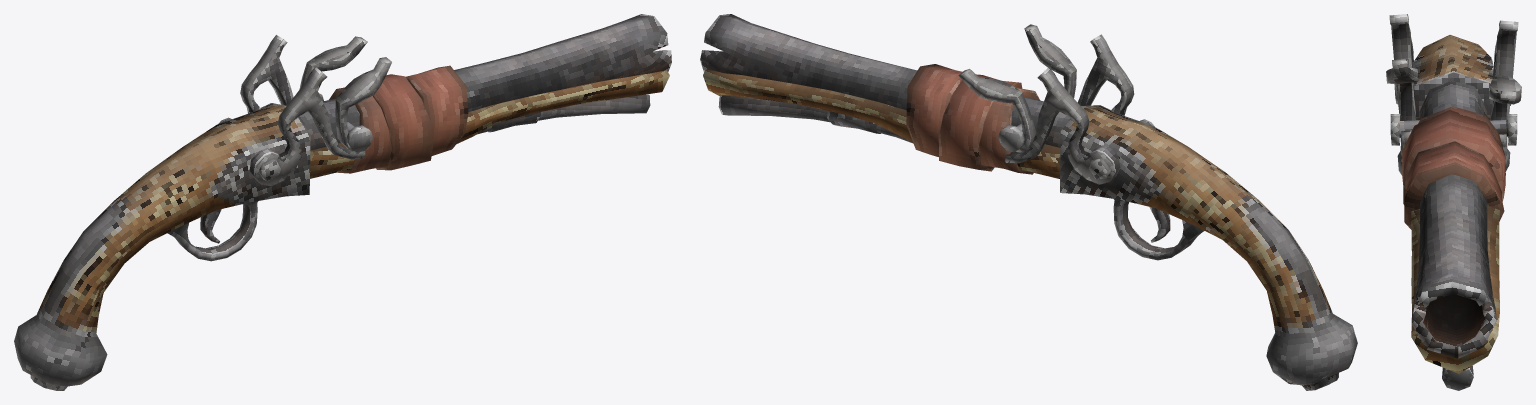
File: gun.glb
3 views of the same model, side by side, from view 1: azimuth 30°, elevation 25°; view 2: azimuth 150°, elevation 25°; view 3: azimuth 270°, elevation 25° (orthographic). The views are drawn at different scales.
Parts seen in each view (by area): view 1: Pistol; view 2: Pistol; view 3: Pistol.
Part boxes in pixels (x1,y1,x2,y2): Pistol: (14, 14, 671, 390); Pistol: (700, 14, 1357, 390); Pistol: (1386, 14, 1521, 390).
Size of the model in its own units: 62.43 by 26.03 by 9.67.
Materials: 1 (1 with a texture image).
